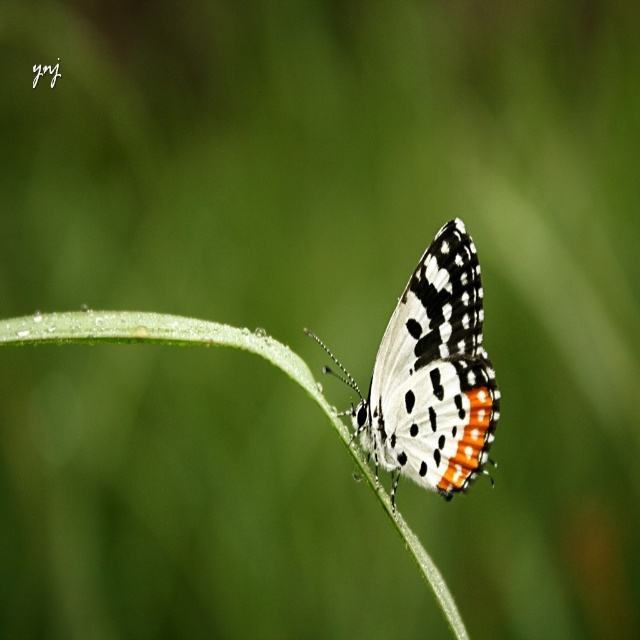Butterfly: (314, 214, 503, 506)
